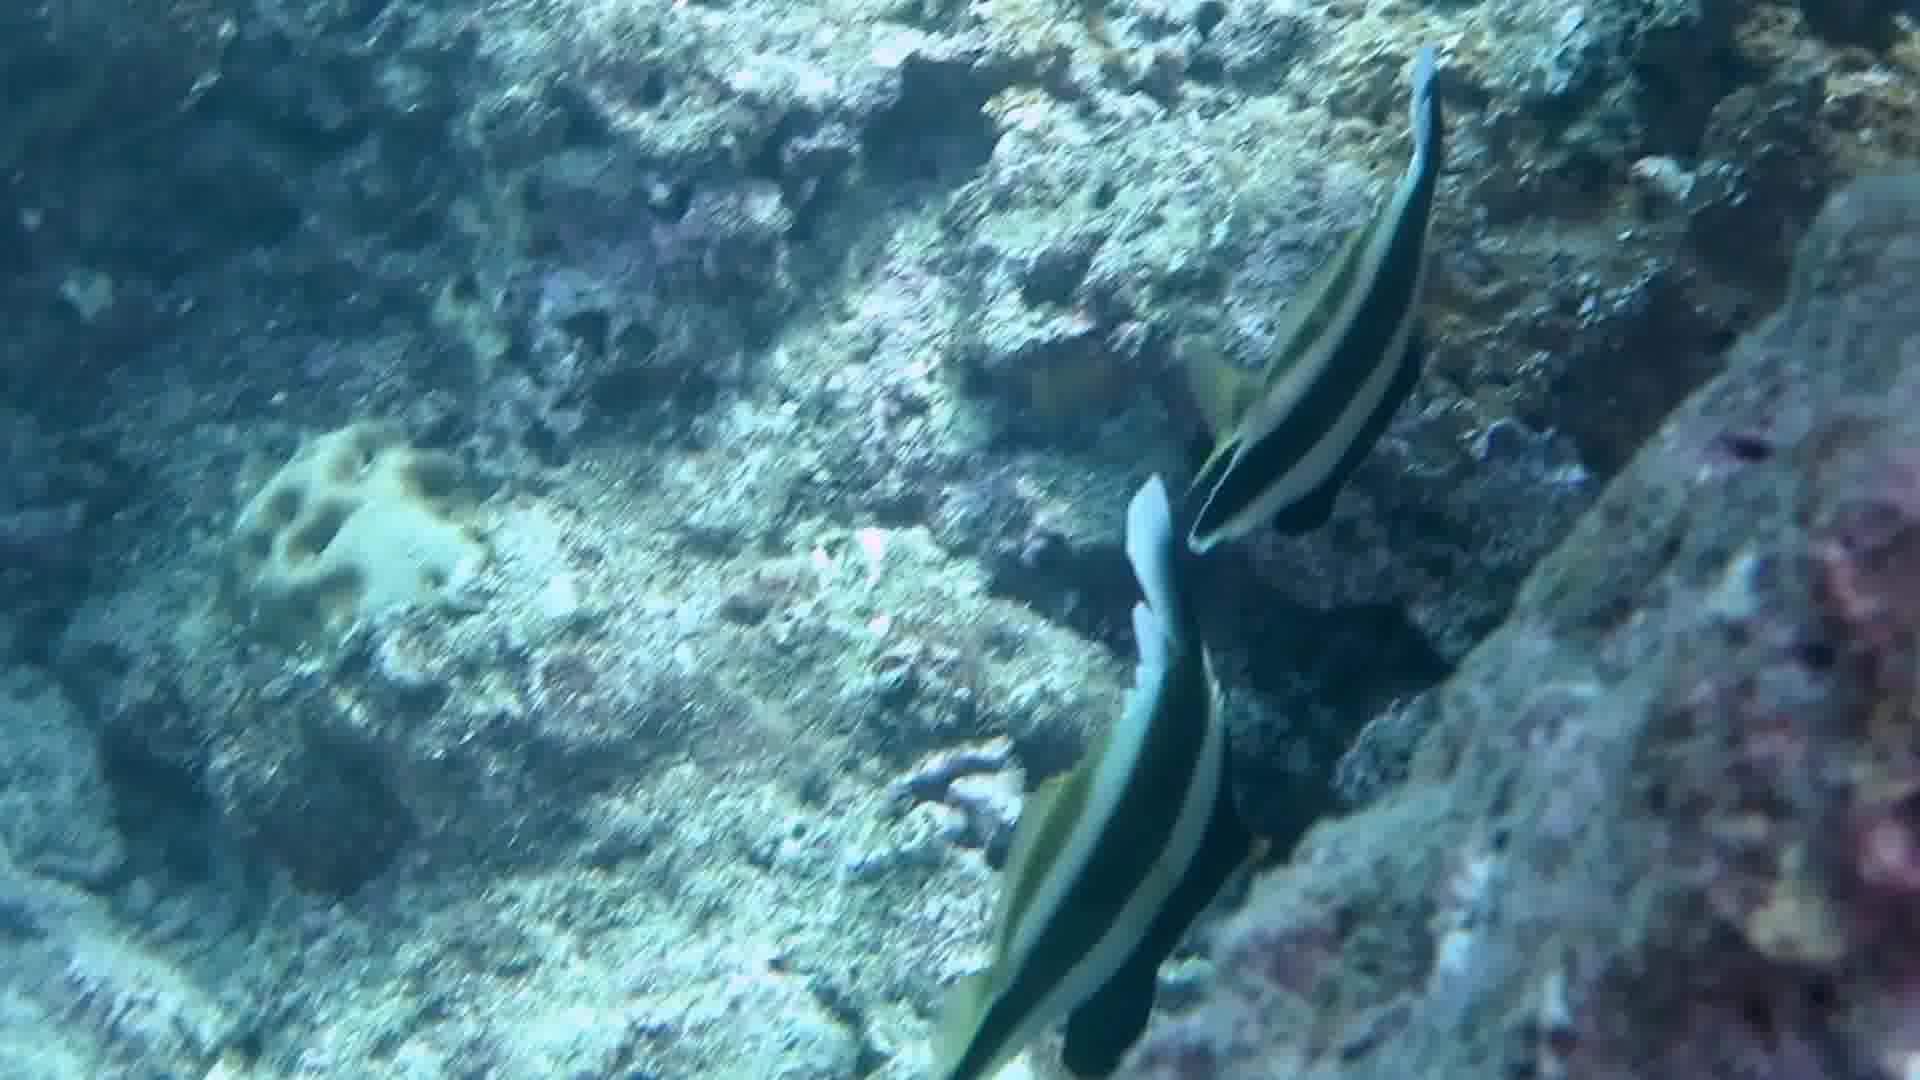Heniochus chrysostomus: (927, 465, 1255, 1080), (1166, 1, 1491, 563)
